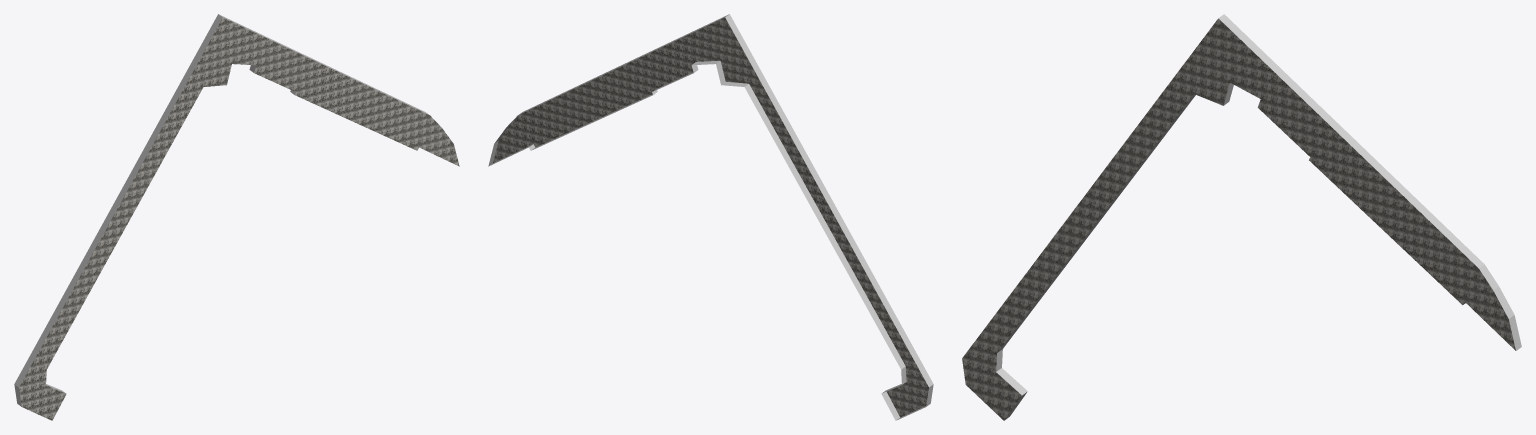
Rendered from geospecific_413.obj.
3 renders of one model, left to right at view 1: azimuth 30°, elevation 25°; view 2: azimuth 150°, elevation 25°; view 3: azimuth 330°, elevation 25°, orthographic. The views are drawn at different scales.
Visible parts, largest first — view 1: Building; view 2: Building; view 3: Building.
Part boxes in pixels (x1,y1,x2,y2): Building: [14, 14, 459, 420]; Building: [488, 14, 933, 420]; Building: [962, 14, 1521, 420].
Bounding box in the file's own units: 164 × 129 × 3.
